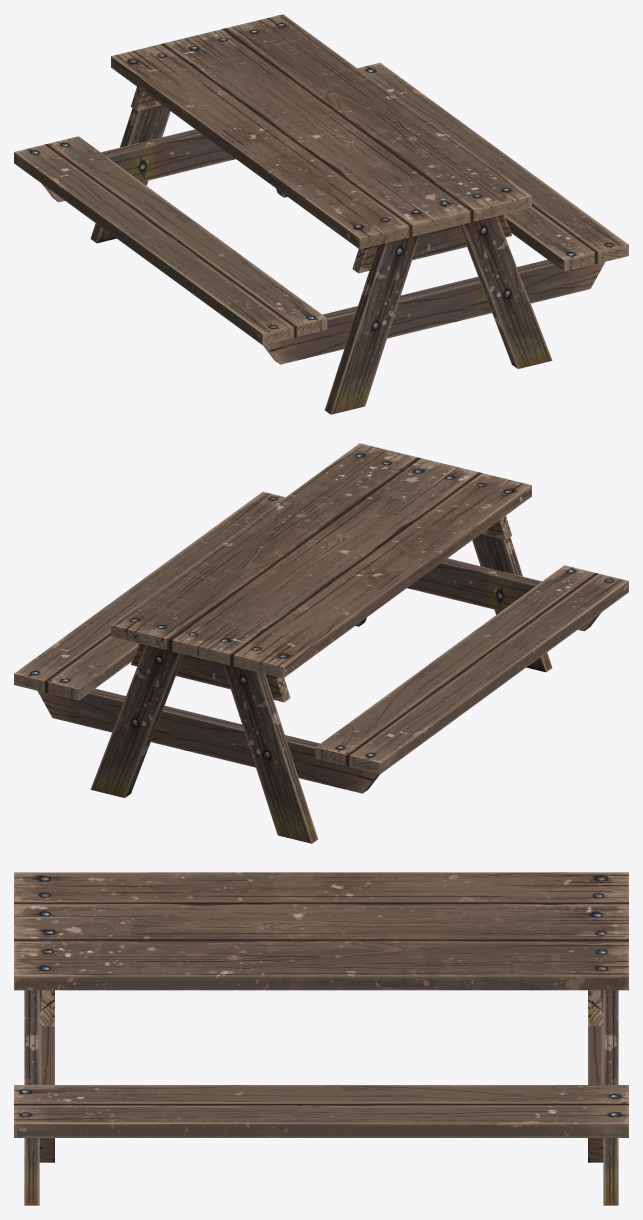
The model's file is table_picnic.fbx.
The picture shows the model from 3 angles, top to bottom: view 1: azimuth 30°, elevation 25°; view 2: azimuth 150°, elevation 25°; view 3: azimuth 270°, elevation 25°; orthographic projection. The views are drawn at different scales.
Visible parts, largest first — view 1: table_picnic; view 2: table_picnic; view 3: table_picnic.
Part boxes in pixels (box(x1,y1,x2,y2)): table_picnic: box(14, 14, 628, 414); table_picnic: box(14, 443, 628, 843); table_picnic: box(14, 872, 628, 1205).
Bounding box in the file's own units: 170 × 77 × 200.
